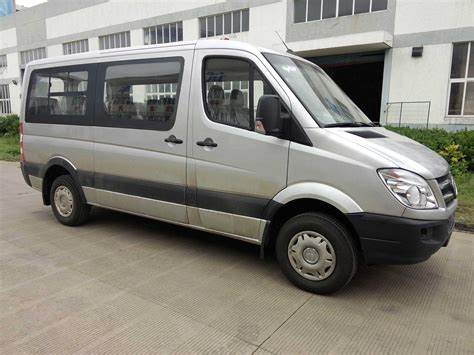midcar: (14, 27, 459, 298)
